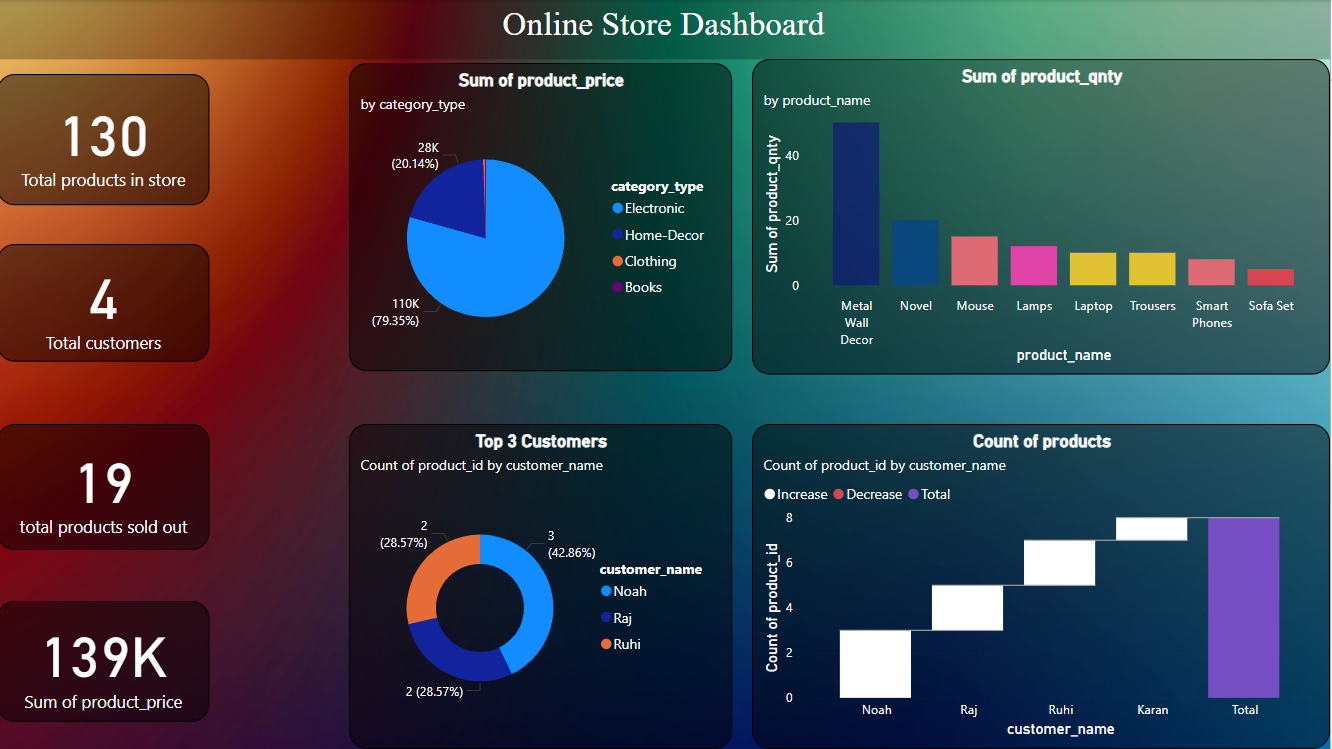

The dashboard page shown, as its layout file describes it:
{"tool":"powerbi","page":{"name":"Page 1","canvas":[1280,720],"ordinal":0},"visuals":[{"type":"textbox","box":[0,0,1280,56.5],"z":0},{"type":"pieChart","fields":{"Category":["Online_Store_Category.category_type"],"Y":["Online_Store_Products.product_price"]},"box":[338,60.4,367.6,295.6],"z":1000},{"type":"clusteredColumnChart","fields":{"Y":["Online_Store_Products.product_qnty"],"Category":["Online_Store_Products.product_name"]},"box":[724.8,56.5,555.2,303.3],"z":2000},{"type":"waterfallChart","title":"Count of products","fields":{"Category":["Online_Store_Customers.customer_name"],"Y":["Online_Store_Products.product_id"]},"box":[724.8,407.4,555.2,312.3],"z":3000},{"type":"donutChart","title":"Top 3 Customers","fields":{"Category":["Online_Store_Customers.customer_name"],"Y":["Online_Store_Orders_details.product_id"]},"box":[338,407.4,367.6,312.3],"z":4000},{"type":"card","fields":{"Values":["Online_Store_Products.product_qnty"]},"box":[0,70.7,204.3,125.9],"z":5000},{"type":"card","fields":{"Values":["Online_Store_Customers.customer_id"]},"box":[0,233.9,204.3,113.1],"z":6000},{"type":"card","fields":{"Values":["Online_Store_Orders_details.quantity"]},"box":[0,407.4,204.3,120.8],"z":7000},{"type":"card","fields":{"Values":["Online_Store_Products.product_price"]},"box":[0,577,204.3,115.7],"z":8000}]}

Visuals, with their boxes in screenshot pixels (x1, y1, x2, y2), scaled from the page's 1280x720 canvas onto the 1332x749 screenshot:
textbox: x1=0 y1=0 x2=1331 y2=59
pieChart - Online_Store_Category.category_type x Online_Store_Products.product_price: x1=352 y1=63 x2=734 y2=370
clusteredColumnChart - Online_Store_Products.product_qnty x Online_Store_Products.product_name: x1=754 y1=59 x2=1331 y2=374
"Count of products" waterfallChart: x1=754 y1=424 x2=1331 y2=748
"Top 3 Customers" donutChart: x1=352 y1=424 x2=734 y2=748
card - Online_Store_Products.product_qnty: x1=0 y1=74 x2=213 y2=205
card - Online_Store_Customers.customer_id: x1=0 y1=243 x2=213 y2=361
card - Online_Store_Orders_details.quantity: x1=0 y1=424 x2=213 y2=549
card - Online_Store_Products.product_price: x1=0 y1=600 x2=213 y2=721
